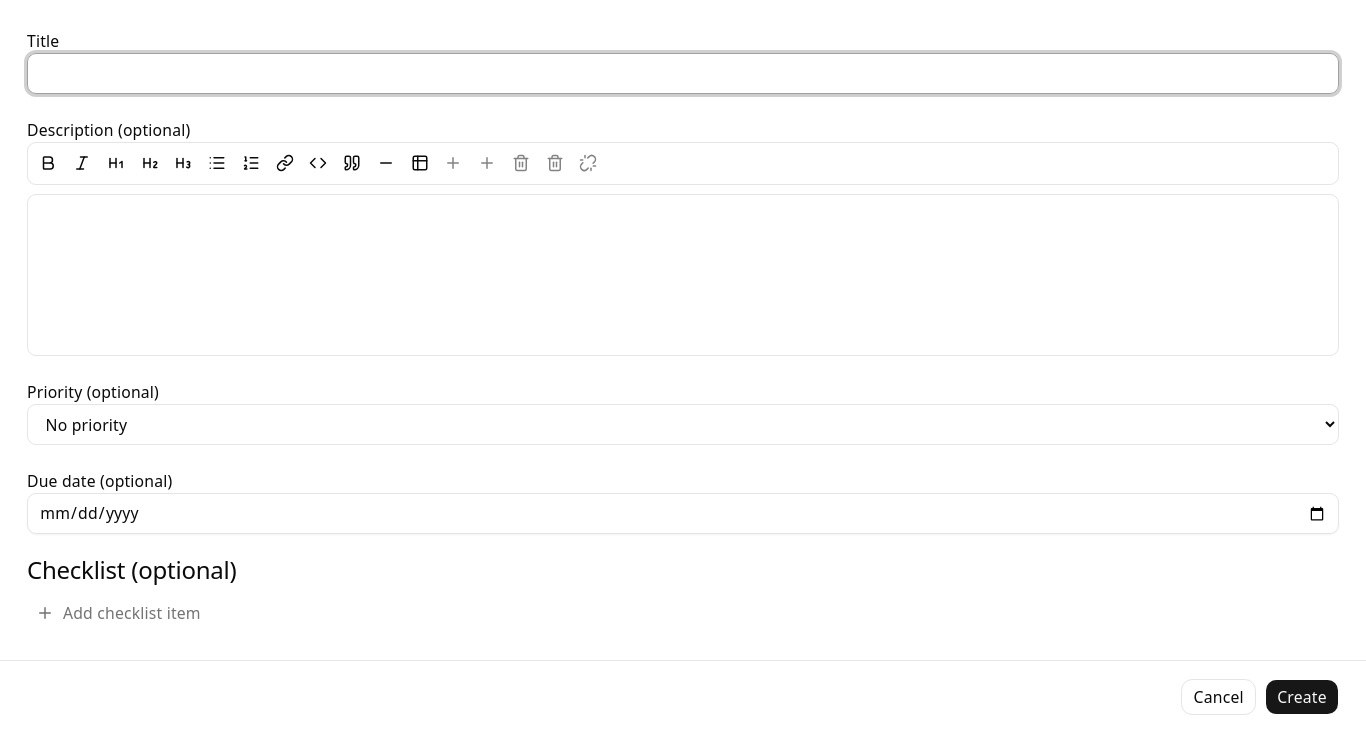
Scenario: TaskCreateForm › keeps the session error visible without automatic retry after a 401 response
This screenshot has width=1366, height=754.
Type "A protected task" into the field labelled "Title" at (683, 73), box left=27, top=53, right=1339, bottom=94
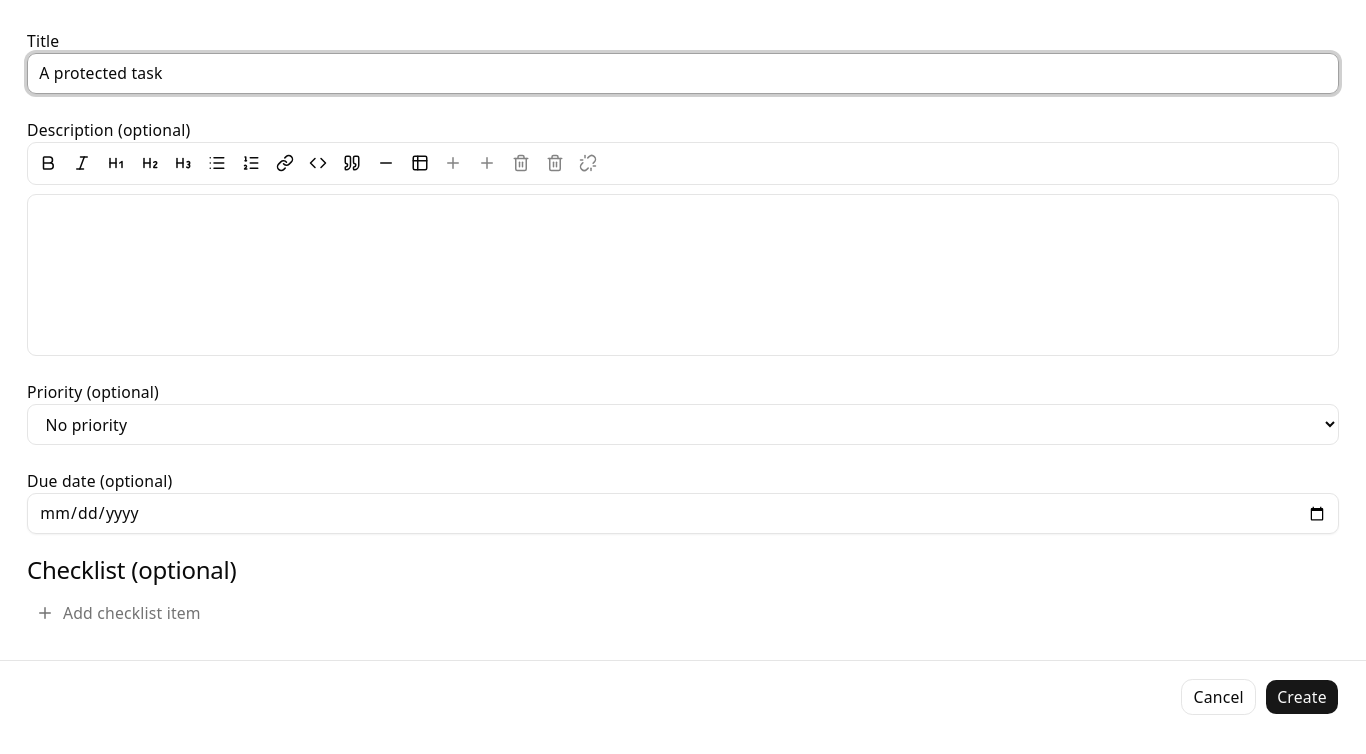
Click the button "Create" at (1302, 697), box left=1265, top=679, right=1339, bottom=715
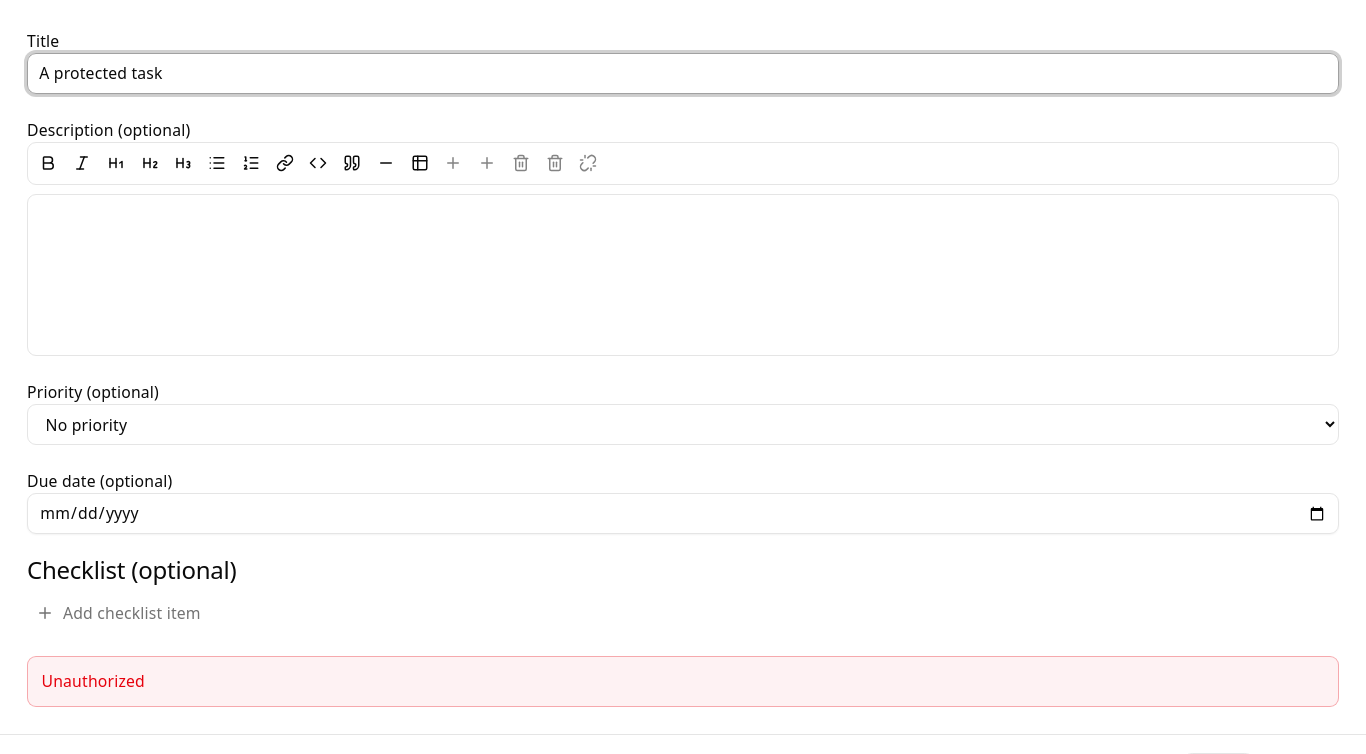
Expected: the message reads "Unauthorized", left=42, top=670, right=145, bottom=692
